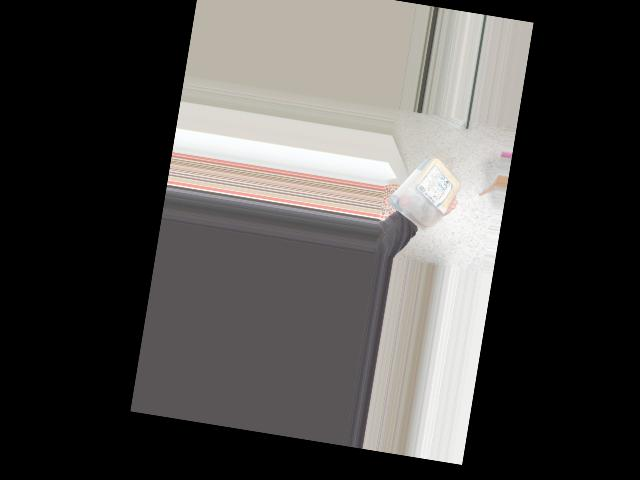cheese: (394, 153, 463, 228)
